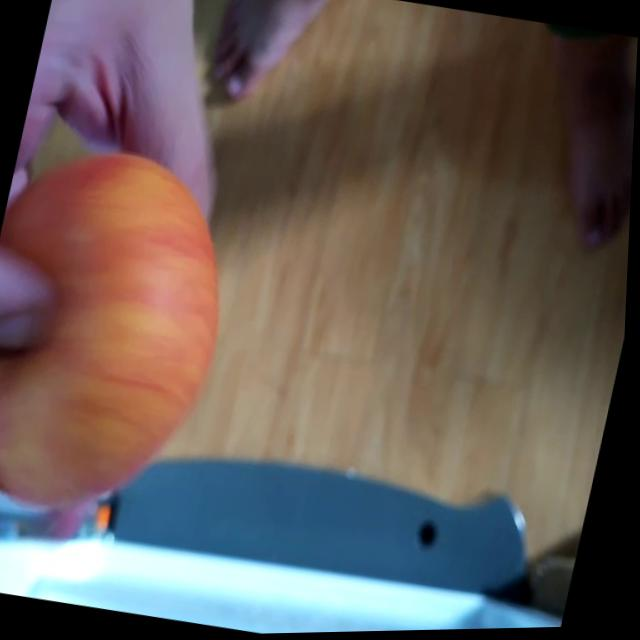apple: (0, 130, 255, 535)
